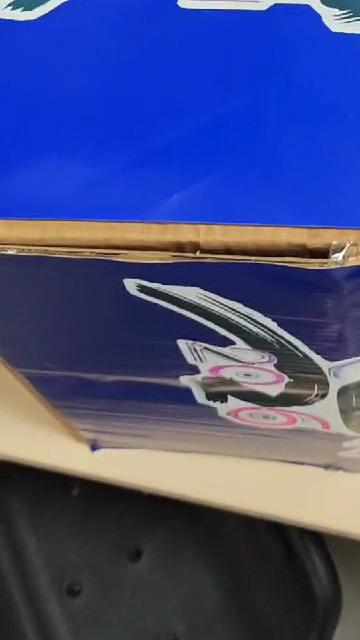B_R1: (7, 0, 360, 31)
